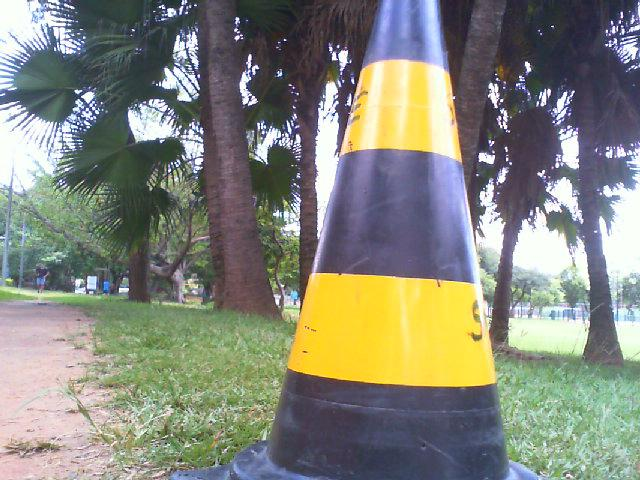0 cone: (171, 0, 542, 480)
